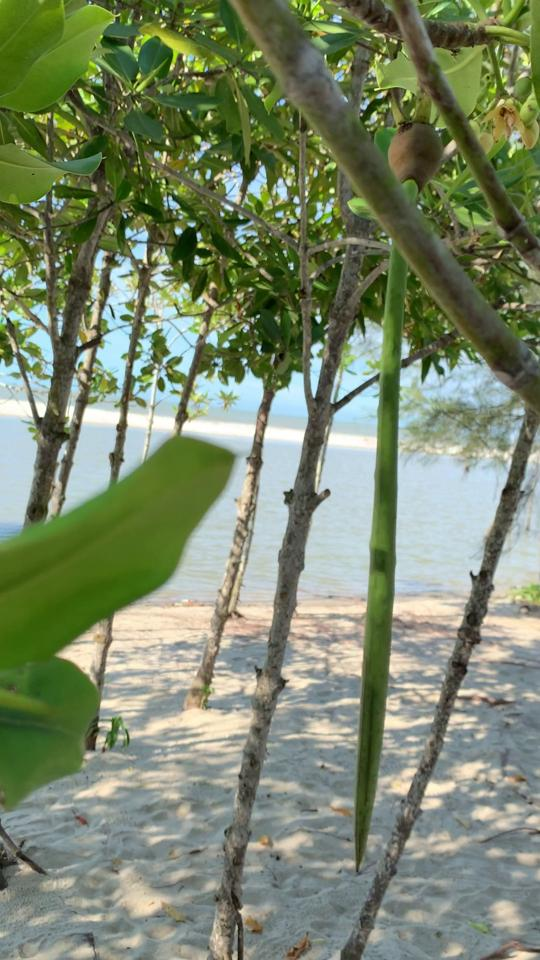setengah matang: (335, 93, 463, 878)
